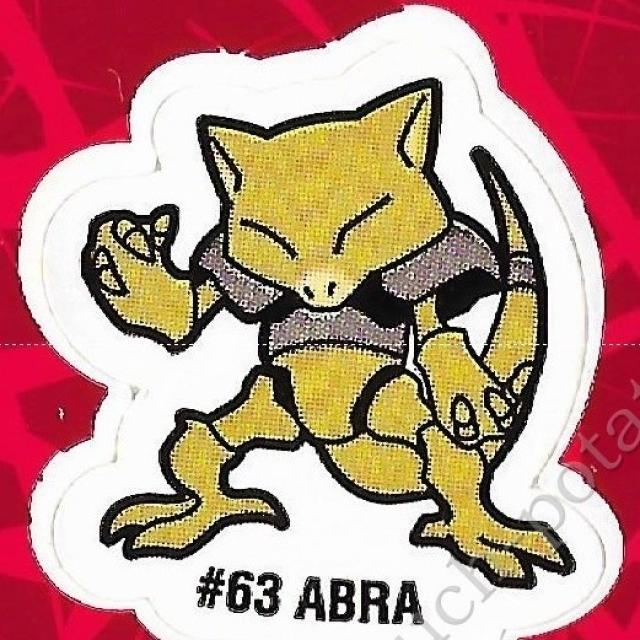Abra: (110, 85, 548, 573)
